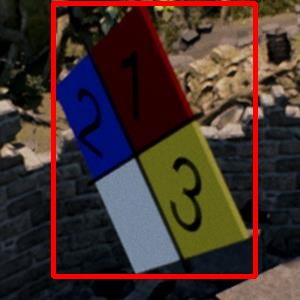nfpa: (53, 3, 255, 276)
